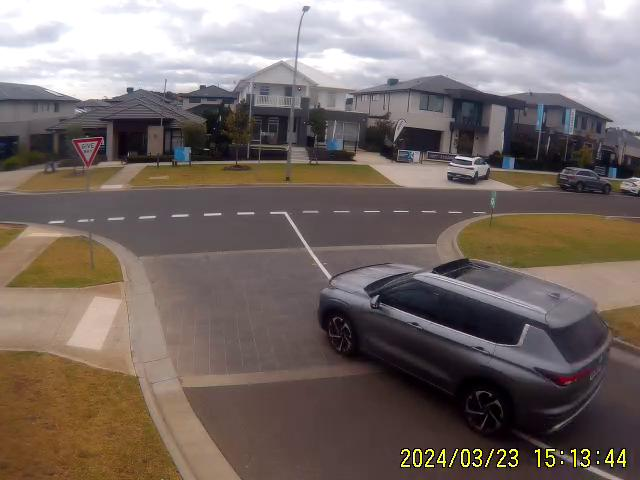vehicle type 1: (317, 251, 615, 437), (555, 167, 615, 197), (448, 155, 492, 186)
wheel: (461, 382, 513, 439), (326, 313, 362, 360), (576, 183, 586, 195), (603, 184, 613, 195)
